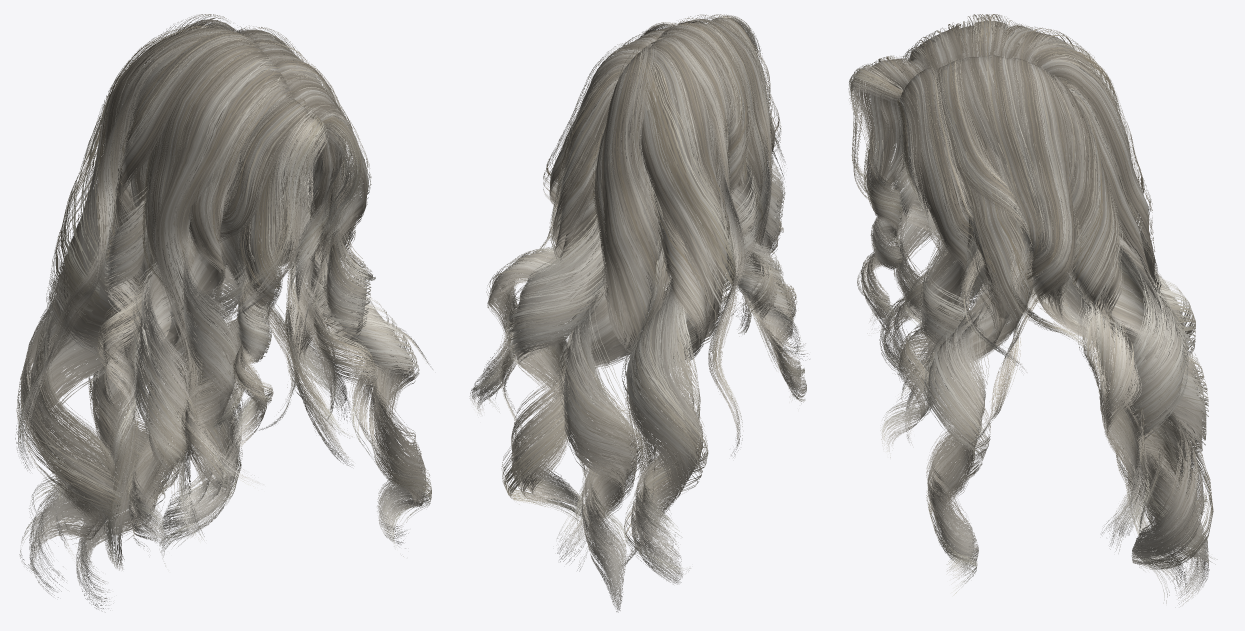
File: dint_hair_31.glb
3 renders of one model, left to right at view 1: azimuth 30°, elevation 25°; view 2: azimuth 150°, elevation 25°; view 3: azimuth 270°, elevation 25°, orthographic. The views are drawn at different scales.
Parts seen in each view (by area): view 1: H01c_H01c, H01b_H01b, H02c_H02c, H02b_H02b; view 2: H01c_H01c, H01b_H01b, H02c_H02c, H02b_H02b; view 3: H02c_H02c, H02b_H02b, H01c_H01c, H01b_H01b.
Boxes of the visible parts, x1,y1,x2,y2 form: H01c_H01c: (18,19,326,612); H01b_H01b: (15,14,328,574); H02c_H02c: (159,28,432,548); H02b_H02b: (159,25,431,566); H01c_H01c: (563,17,809,612); H01b_H01b: (559,14,805,581); H02c_H02c: (472,23,675,563); H02b_H02b: (469,22,675,571); H02c_H02c: (881,55,1204,593); H02b_H02b: (880,50,1213,603); H01c_H01c: (850,20,1209,607); H01b_H01b: (848,14,1217,578).
Bounding box in the file's own units: 0.3502 × 0.66 × 0.383.
5 materials, 5 textured.
